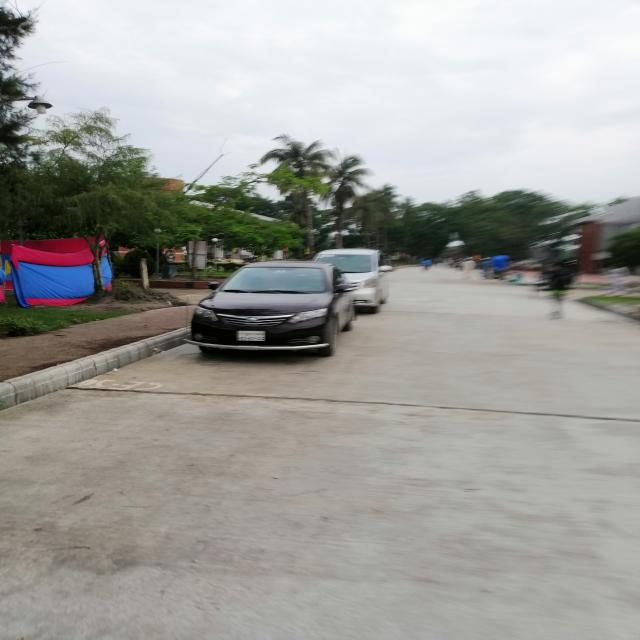Car: (172, 250, 369, 374), (277, 239, 406, 321)
